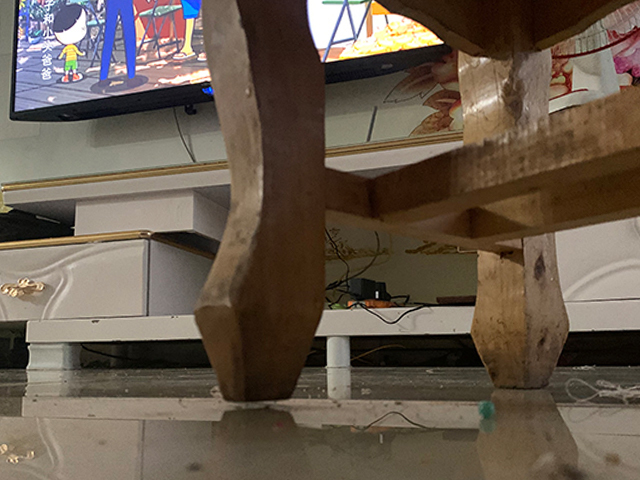cabinet: (1, 130, 640, 371)
stool: (192, 1, 640, 404)
